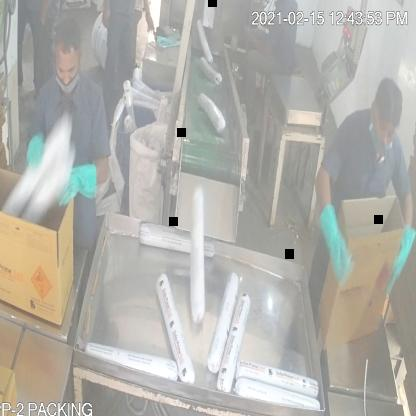glove: (310, 195, 356, 290), (381, 213, 416, 313), (57, 160, 96, 208)
no_glove: (246, 22, 275, 68), (134, 0, 157, 41), (39, 0, 58, 33), (98, 0, 113, 33)
